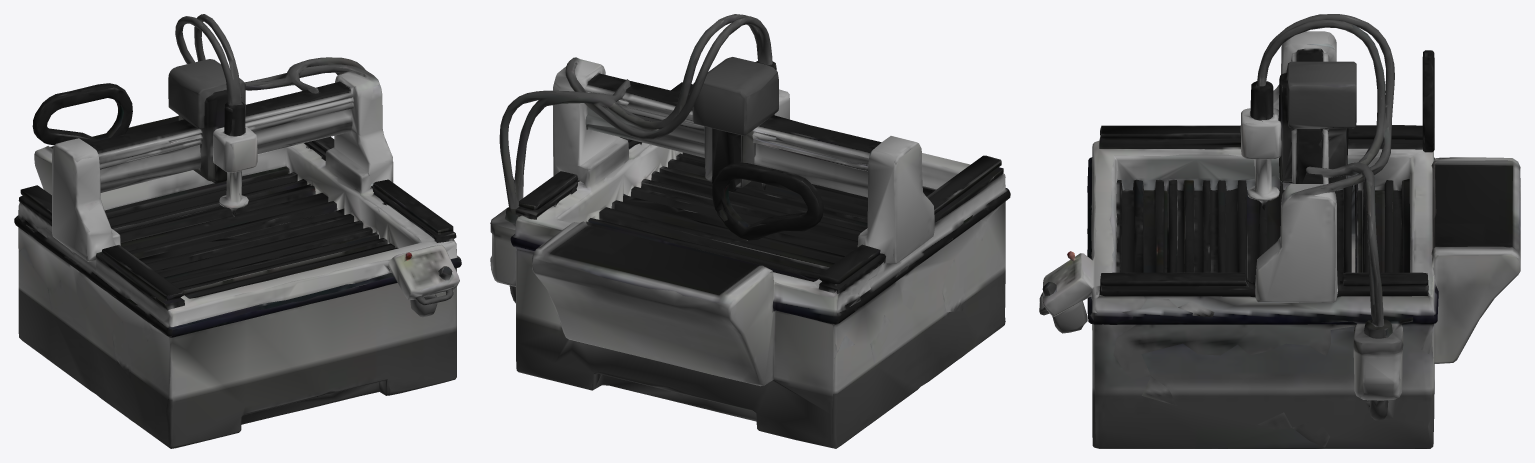
The model's file is waterjet_cutter.glb.
3 renders of one model, left to right at view 1: azimuth 30°, elevation 25°; view 2: azimuth 150°, elevation 25°; view 3: azimuth 270°, elevation 25°, orthographic. The views are drawn at different scales.
Parts seen in each view (by area): view 1: geometry_0; view 2: geometry_0; view 3: geometry_0.
Part boxes in pixels (left/top/right/bottom): geometry_0: left=14, top=14, right=461, bottom=448; geometry_0: left=490, top=14, right=1010, bottom=448; geometry_0: left=1039, top=14, right=1520, bottom=448.
Bounding box in the file's own units: 0.9042 × 0.8144 × 1.
1 material, 1 textured.
